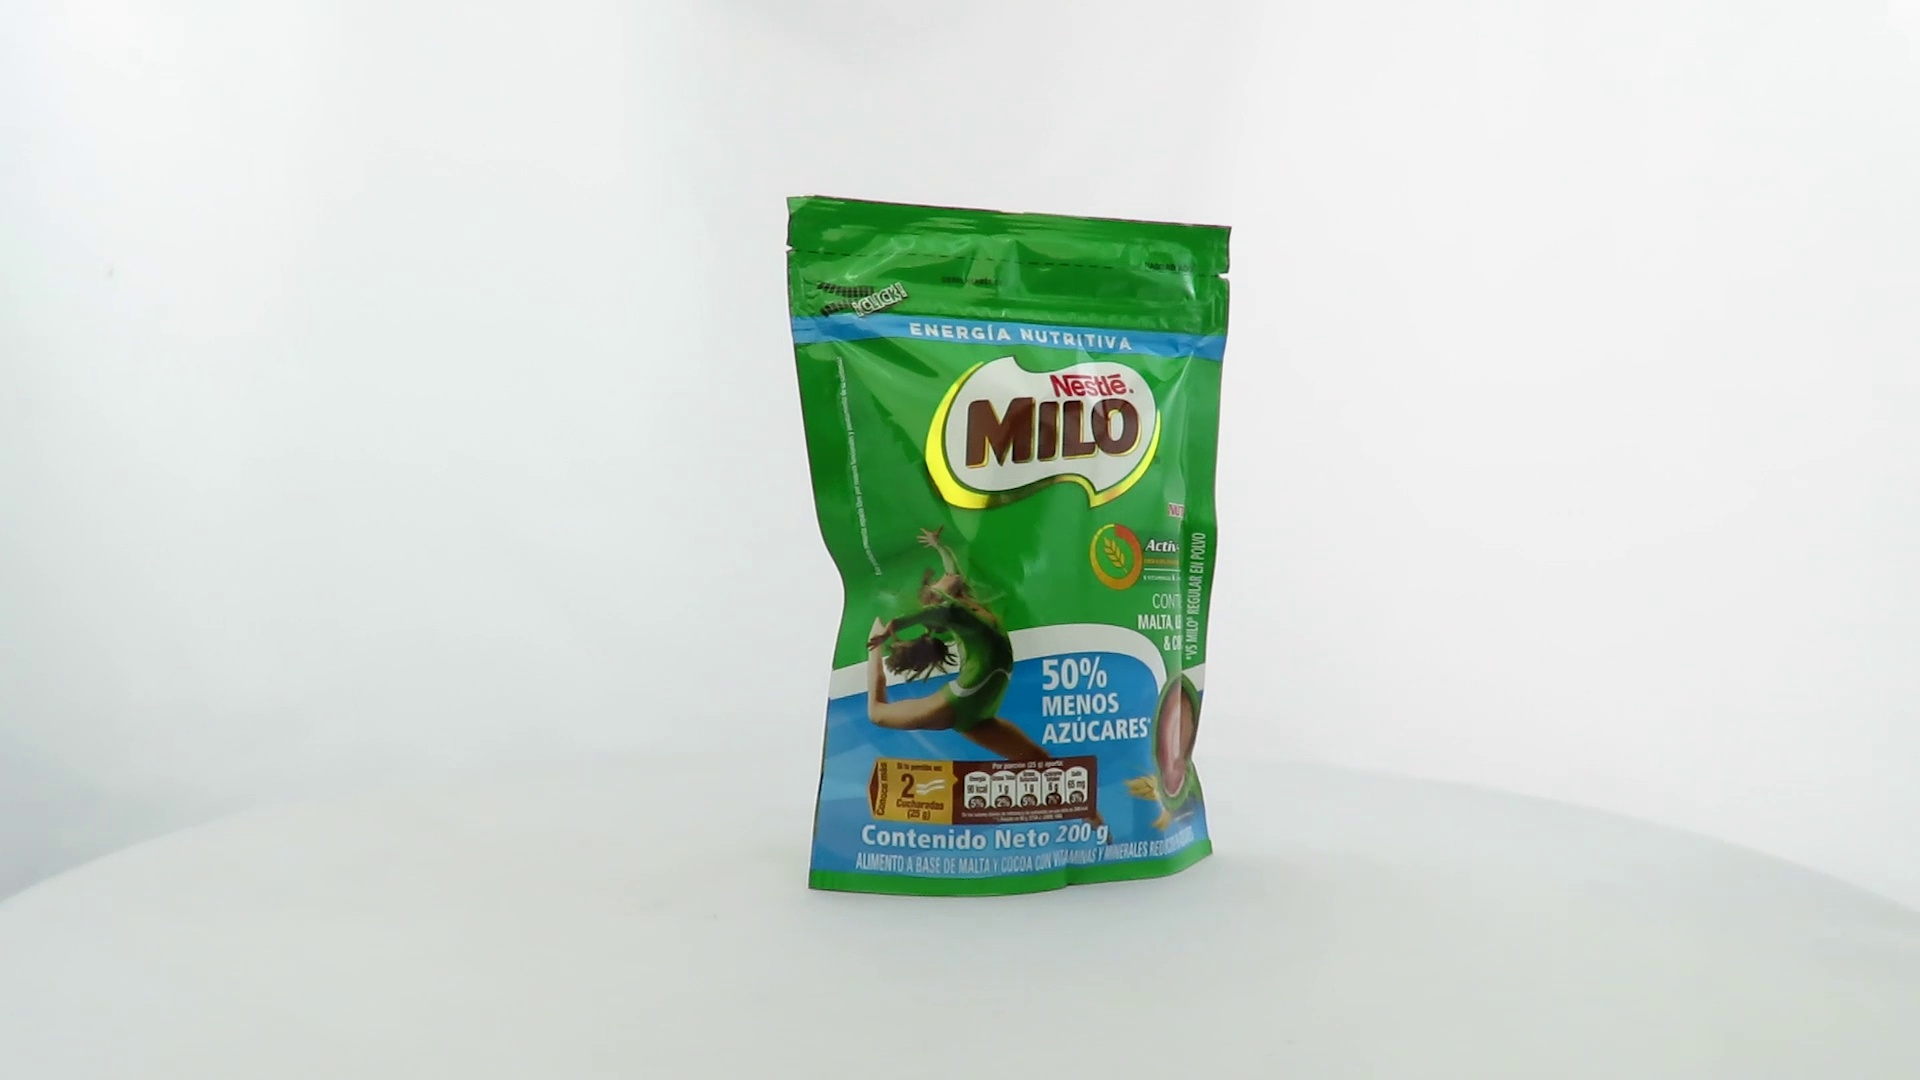COL0170205DYP20000: (781, 190, 1238, 905)
